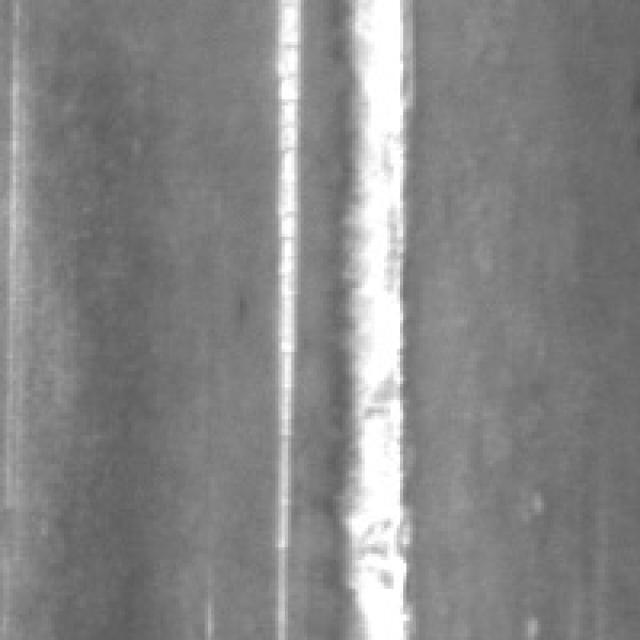scratches: (330, 0, 416, 634), (266, 0, 300, 634)
